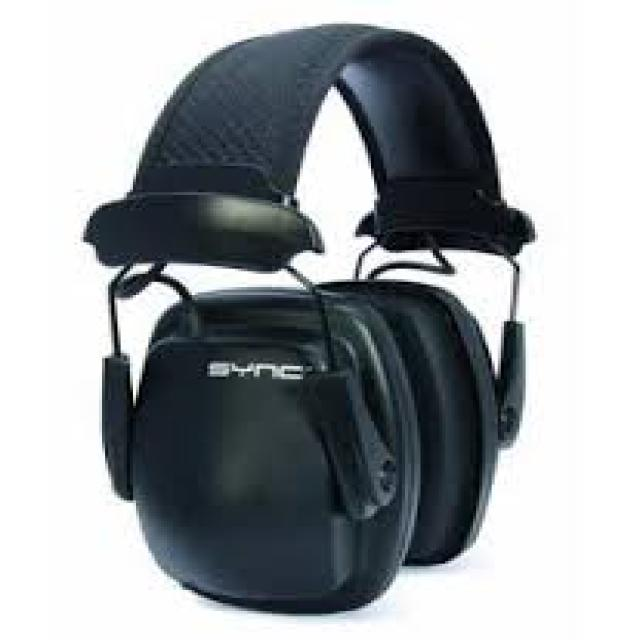Ear-protection: (120, 276, 420, 614)
